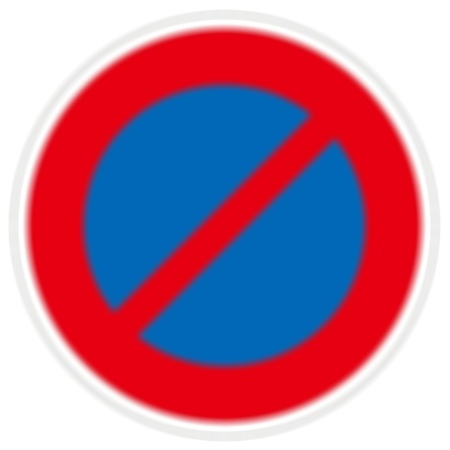Prohibition_sign: (4, 4, 448, 450)
